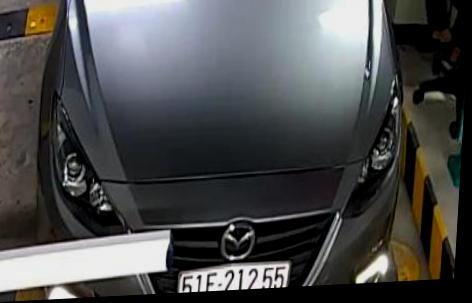License_Plate: (175, 263, 291, 292)
